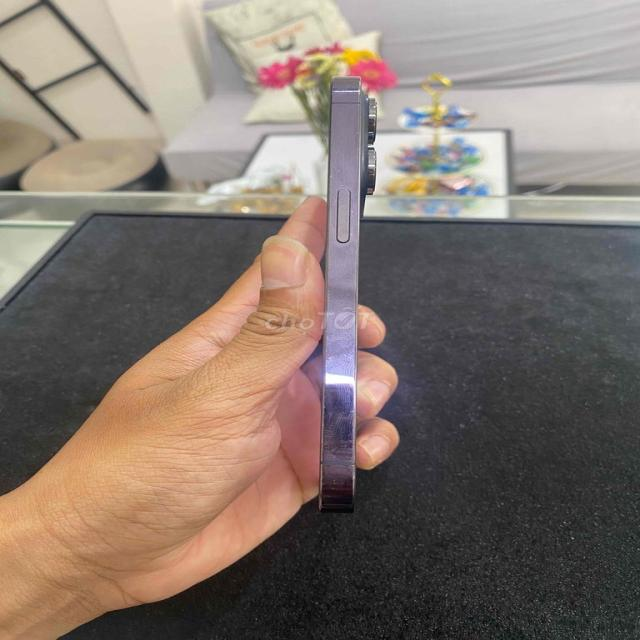gen_14: (294, 56, 383, 526)
scratch: (326, 157, 364, 239), (324, 79, 362, 97)
